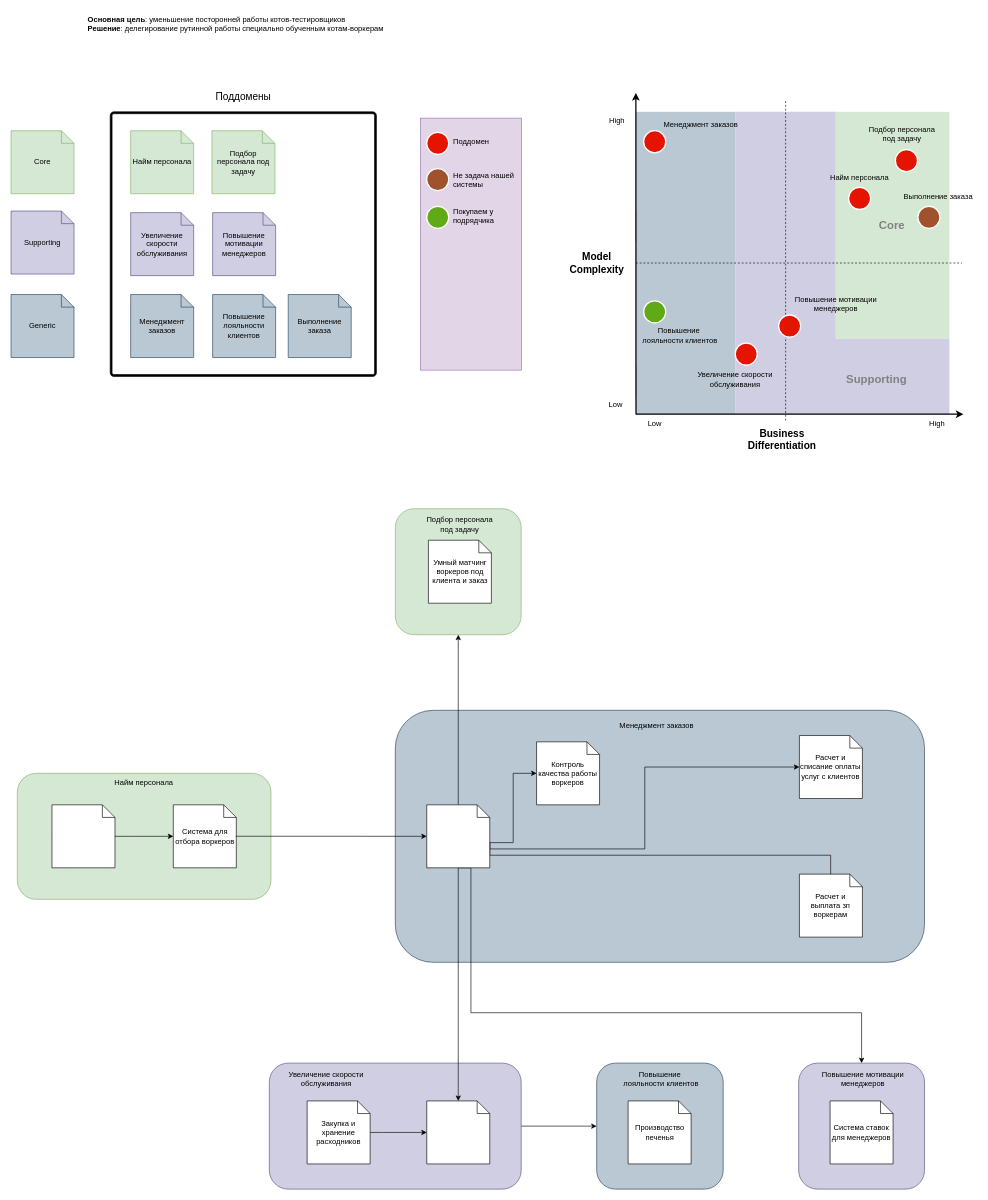
Some shapes in this 988 by 1200 pixel diagram are drawn without their labels. Each missing label, with the box of its shape:
G E N E R I C: (636, 112, 735, 414)
Обработка заказов: (426, 804, 490, 868)
Разработка методик тестирования и тестов: (51, 804, 115, 868)
Сборка расходников для заказа: (426, 1100, 490, 1164)
